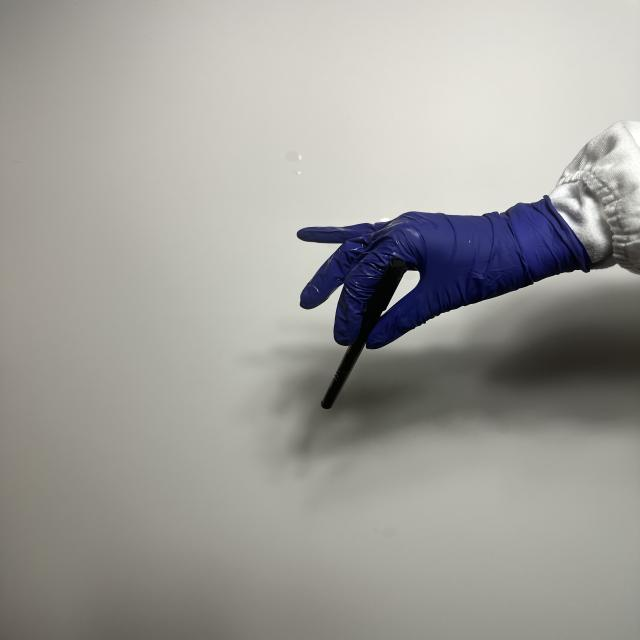gloves_contaminated: (298, 196, 590, 349)
